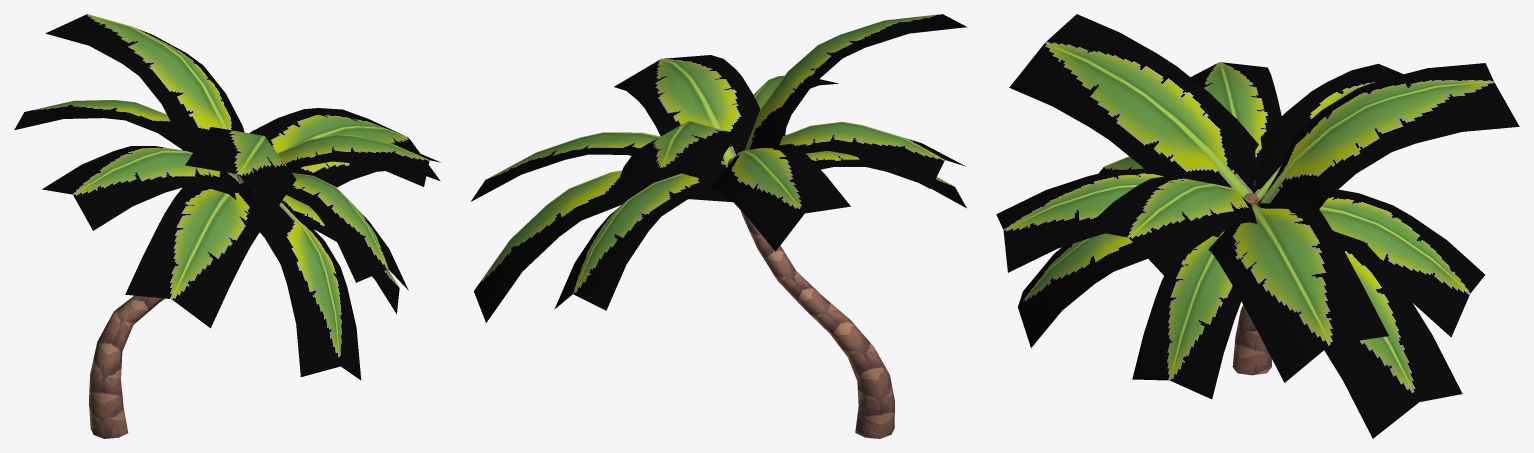
File: q_PalmTree_4.glb
The picture shows the model from 3 angles, left to right: view 1: azimuth 30°, elevation 25°; view 2: azimuth 150°, elevation 25°; view 3: azimuth 270°, elevation 25°; orthographic projection. The views are drawn at different scales.
Visible parts, largest first — view 1: PalmTree_4_Cube.004; view 2: PalmTree_4_Cube.004; view 3: PalmTree_4_Cube.004.
Boxes of the visible parts, x1,y1,x2,y2 form: PalmTree_4_Cube.004: (14, 14, 440, 438); PalmTree_4_Cube.004: (471, 14, 967, 438); PalmTree_4_Cube.004: (996, 14, 1519, 438).
Bounding box in the file's own units: 4.75 × 3.65 × 4.95.
2 materials, 2 textured.
